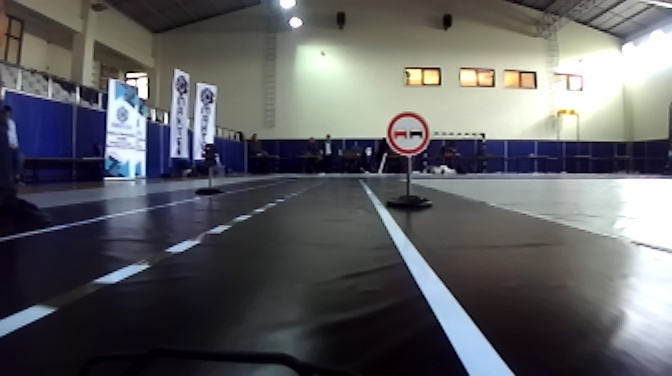sollama_yasak: (387, 109, 431, 155)
